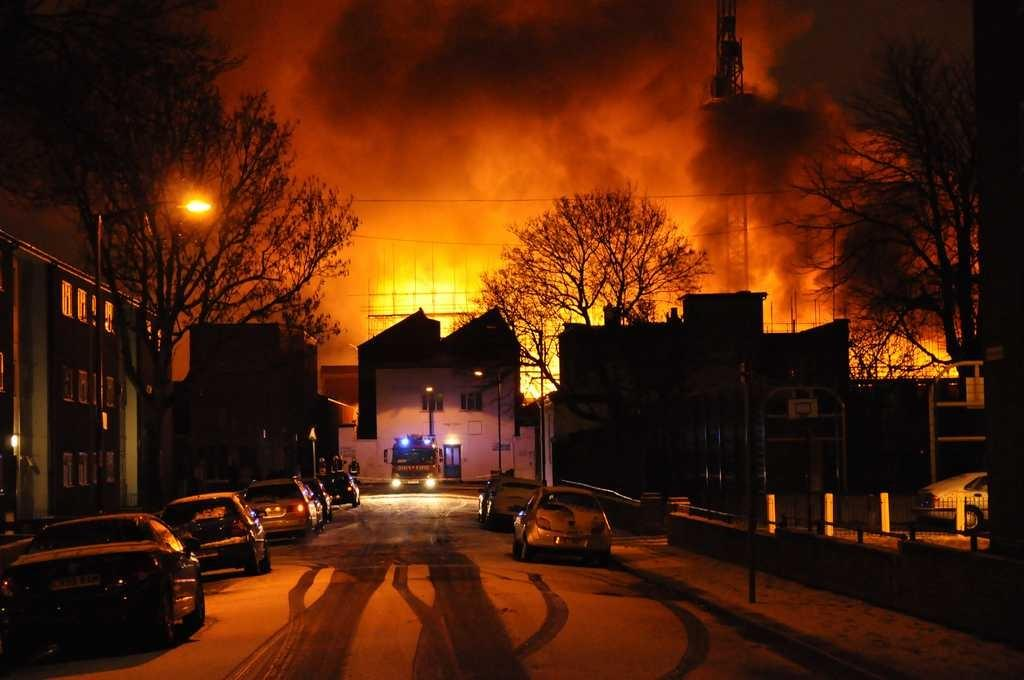fire: (382, 245, 470, 310)
smoke: (368, 22, 565, 120)
